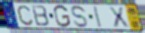B: (30, 4, 51, 27)
C: (16, 4, 34, 26)
G: (53, 4, 72, 29)
I: (92, 5, 103, 29)
S: (71, 5, 90, 29)
X: (108, 7, 131, 29)
